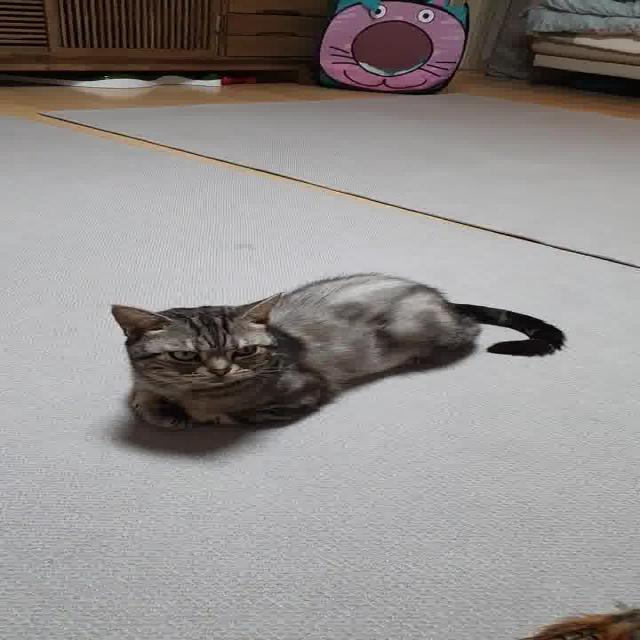cat: (83, 266, 575, 456)
